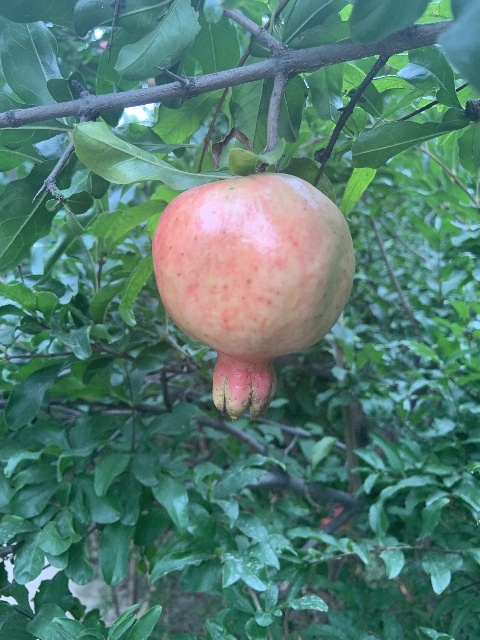ripe: (151, 173, 354, 421)
